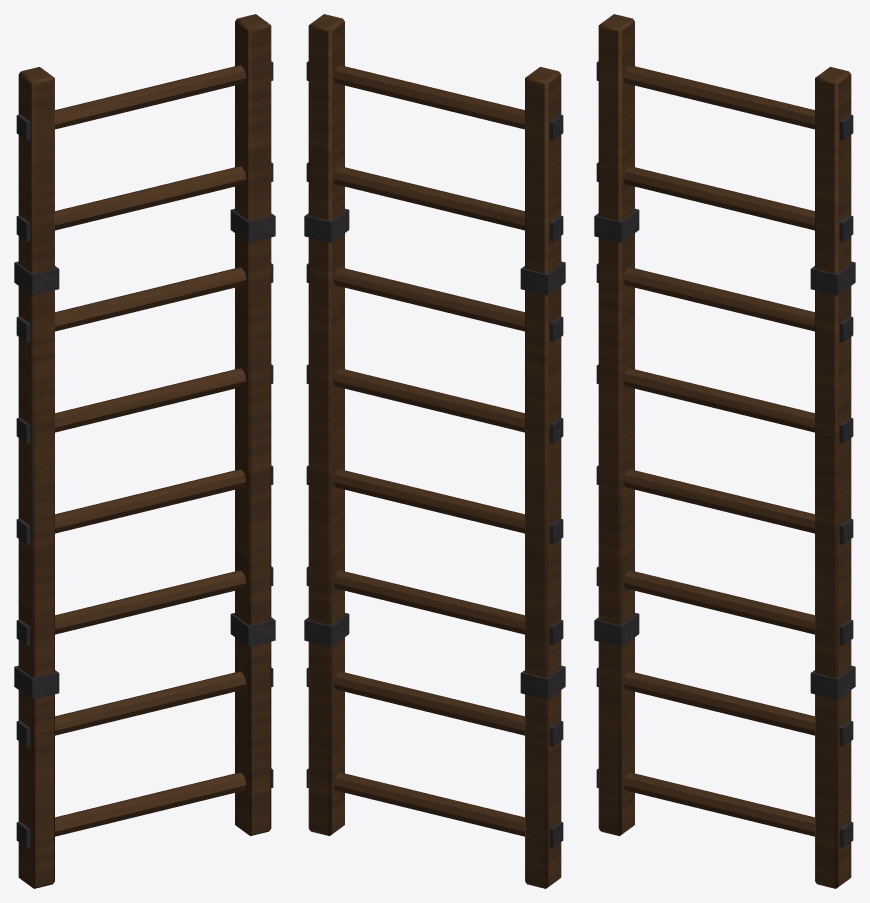
The model's file is ladder_segment_2m.glb.
The picture shows the model from 3 angles, left to right: view 1: azimuth 30°, elevation 25°; view 2: azimuth 150°, elevation 25°; view 3: azimuth 330°, elevation 25°; orthographic projection.
Visible parts, largest first — view 1: ladder_segment_mesh; view 2: ladder_segment_mesh; view 3: ladder_segment_mesh.
Part boxes in pixels (left/top/right/bottom): ladder_segment_mesh: left=14, top=14, right=275, bottom=888; ladder_segment_mesh: left=304, top=14, right=565, bottom=888; ladder_segment_mesh: left=594, top=14, right=855, bottom=888.
Bounding box in the file's own units: 0.638 × 2 × 0.08.
Materials: 2 (2 with a texture image).
